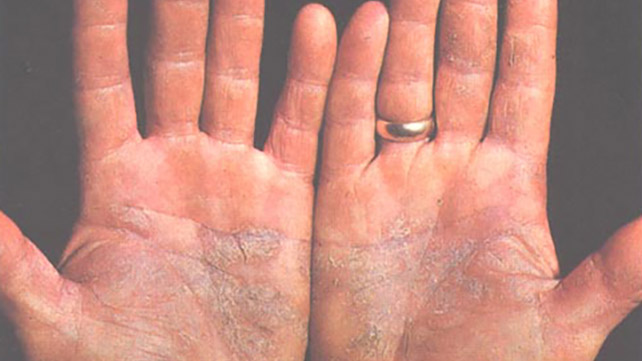Diseased: (79, 46, 545, 361)
